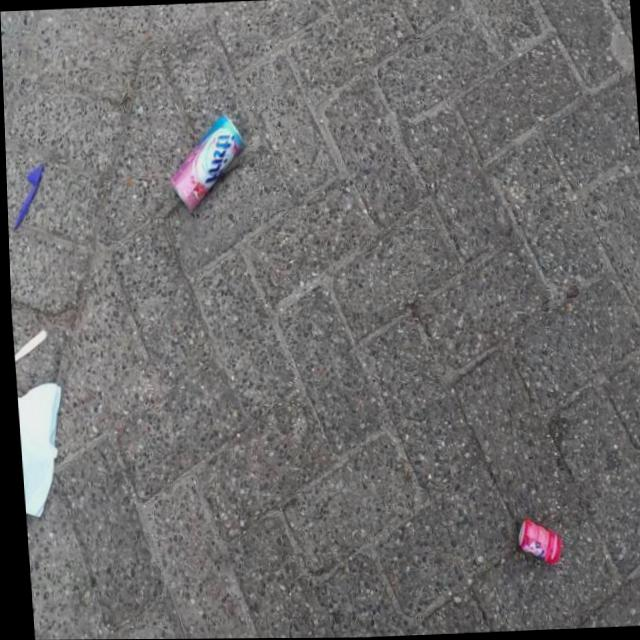Can-Metal: (162, 109, 250, 215)
Paper: (13, 381, 67, 518)
Plastic: (512, 518, 559, 567)
